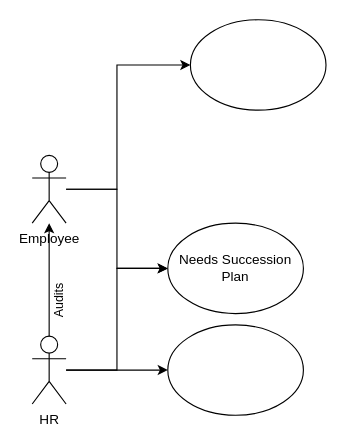
Some shapes in this 346 by 447 pixel diagram are drawn without their labels. The shapes that lost their labels are listed below. From the top down, each one's centre as x and y in pixels, then its label:
At (x=257, y=64): "Does Not Need Succession Plan".
At (x=235, y=369): "Create Succession Plan".
